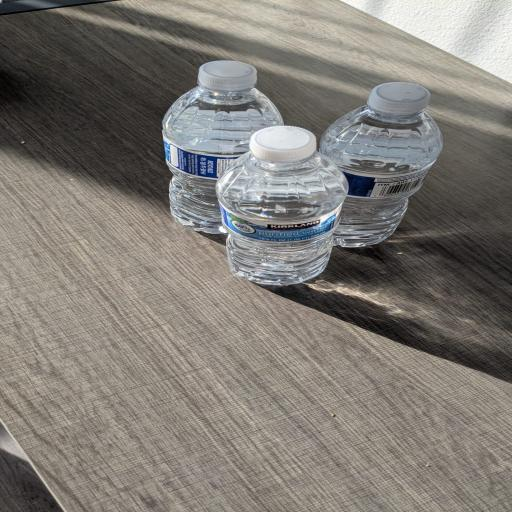waterbottle: (217, 127, 347, 284), (163, 61, 282, 232), (321, 83, 442, 247)
